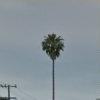Palm tree: (36, 30, 76, 100)
